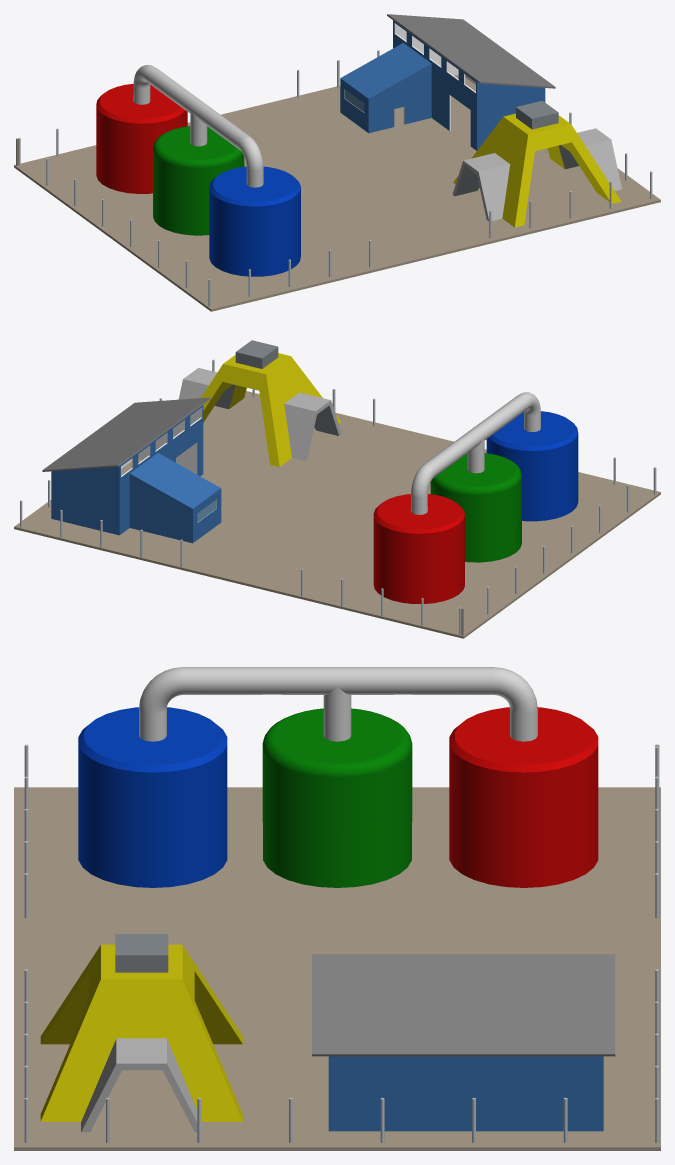
Rendered from factory 2016.fbx.
3 views of the same model, one above another, from view 1: azimuth 30°, elevation 25°; view 2: azimuth 150°, elevation 25°; view 3: azimuth 270°, elevation 25° (orthographic). The views are drawn at different scales.
Parts seen in each view (by area): view 1: 3DGeom~13, 3DGeom~5, 3DGeom~1, 3DGeom~3, 3DGeom~2, 3DGeom~10, 3DGeom~6, 3DGeom~4, 3DGeom~11, 3DGeom~12, 3DGeom~9, 3DGeom~7; view 2: 3DGeom~13, 3DGeom~5, 3DGeom~3, 3DGeom~1, 3DGeom~2, 3DGeom~10, 3DGeom~6, 3DGeom~4, 3DGeom~11, 3DGeom~12, 3DGeom~9, 3DGeom~7; view 3: 3DGeom~13, 3DGeom~6, 3DGeom~3, 3DGeom~1, 3DGeom~2, 3DGeom~5, 3DGeom~10, 3DGeom~4, 3DGeom~12, 3DGeom~11, 3DGeom~9.
Part boxes in pixels (x1,y1,x2,y2): 3DGeom~13: (14, 74, 660, 311); 3DGeom~5: (340, 20, 545, 150); 3DGeom~1: (209, 166, 300, 276); 3DGeom~3: (96, 84, 187, 193); 3DGeom~2: (153, 126, 244, 235); 3DGeom~10: (453, 113, 621, 227); 3DGeom~6: (387, 14, 555, 88); 3DGeom~4: (133, 65, 263, 187); 3DGeom~11: (452, 128, 621, 221); 3DGeom~12: (18, 50, 652, 306); 3DGeom~9: (455, 100, 578, 196); 3DGeom~7: (344, 23, 475, 130); 3DGeom~13: (14, 391, 660, 638); 3DGeom~5: (51, 405, 221, 543); 3DGeom~3: (373, 494, 464, 603); 3DGeom~1: (486, 411, 578, 521); 3DGeom~2: (430, 453, 521, 562); 3DGeom~10: (201, 353, 340, 466); 3DGeom~6: (42, 397, 210, 471); 3DGeom~4: (410, 392, 540, 514); 3DGeom~11: (178, 368, 341, 461); 3DGeom~12: (20, 359, 656, 634); 3DGeom~9: (214, 340, 338, 435); 3DGeom~7: (121, 407, 216, 522); 3DGeom~13: (14, 744, 660, 1150); 3DGeom~6: (312, 954, 615, 1056); 3DGeom~3: (449, 707, 598, 887); 3DGeom~1: (78, 707, 227, 887); 3DGeom~2: (262, 708, 412, 887); 3DGeom~5: (328, 1056, 603, 1131); 3DGeom~10: (40, 944, 242, 1121); 3DGeom~4: (139, 667, 537, 741); 3DGeom~12: (24, 744, 659, 1142); 3DGeom~11: (81, 1038, 202, 1132); 3DGeom~9: (115, 934, 168, 972).
Size of the model in its own units: 0.9 by 0.6839 by 0.2236.
